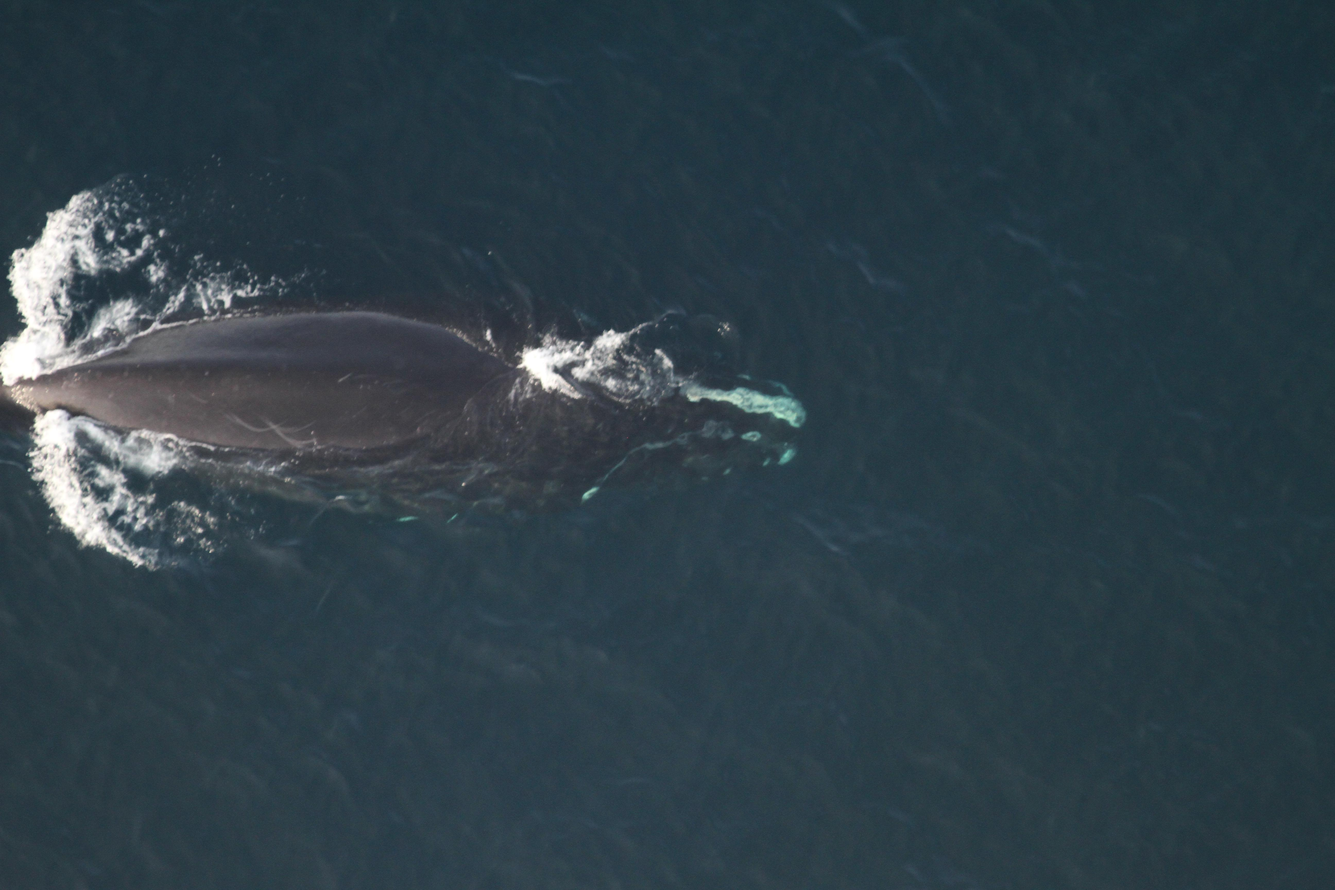whale: (0, 302, 816, 537)
